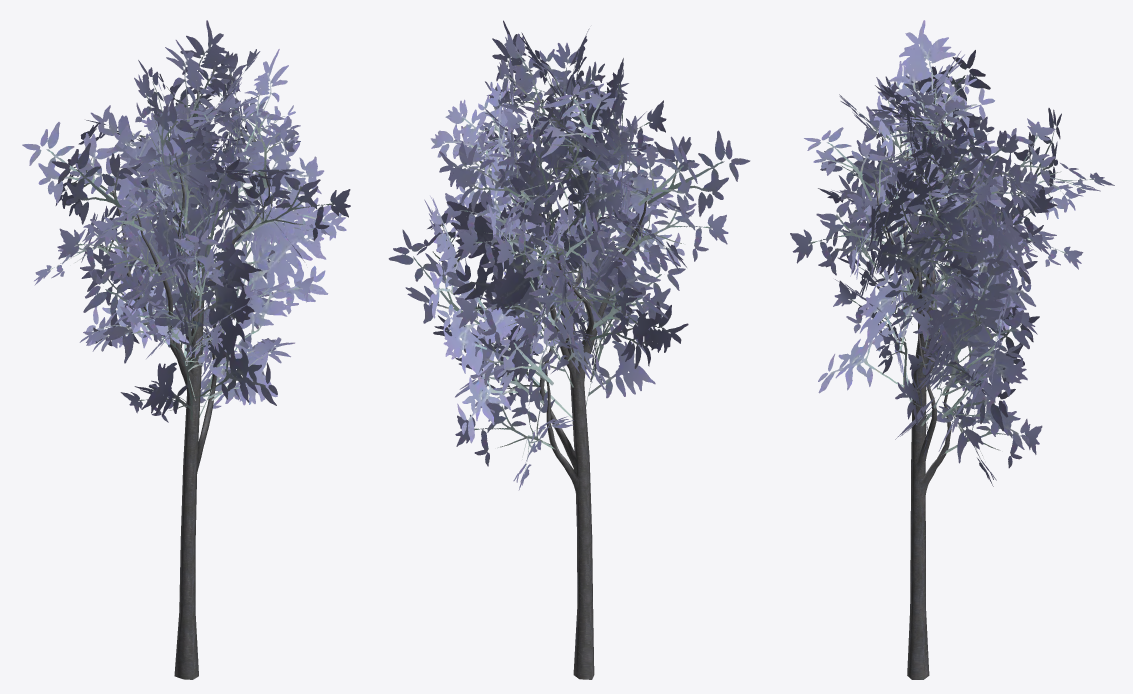
3 renders of one model, left to right at view 1: azimuth 30°, elevation 25°; view 2: azimuth 150°, elevation 25°; view 3: azimuth 270°, elevation 25°, orthographic. The views are drawn at different scales.
Visible parts, largest first — view 1: SM_FH_Ash_Sapling_01_LOD0; view 2: SM_FH_Ash_Sapling_01_LOD0; view 3: SM_FH_Ash_Sapling_01_LOD0.
Part boxes in pixels (x1,y1,x2,y2): SM_FH_Ash_Sapling_01_LOD0: (22,20,350,679); SM_FH_Ash_Sapling_01_LOD0: (388,20,750,679); SM_FH_Ash_Sapling_01_LOD0: (790,20,1114,679).
Bounding box in the file's own units: 1.13 × 2.4 × 1.1.
2 materials, 2 textured.
